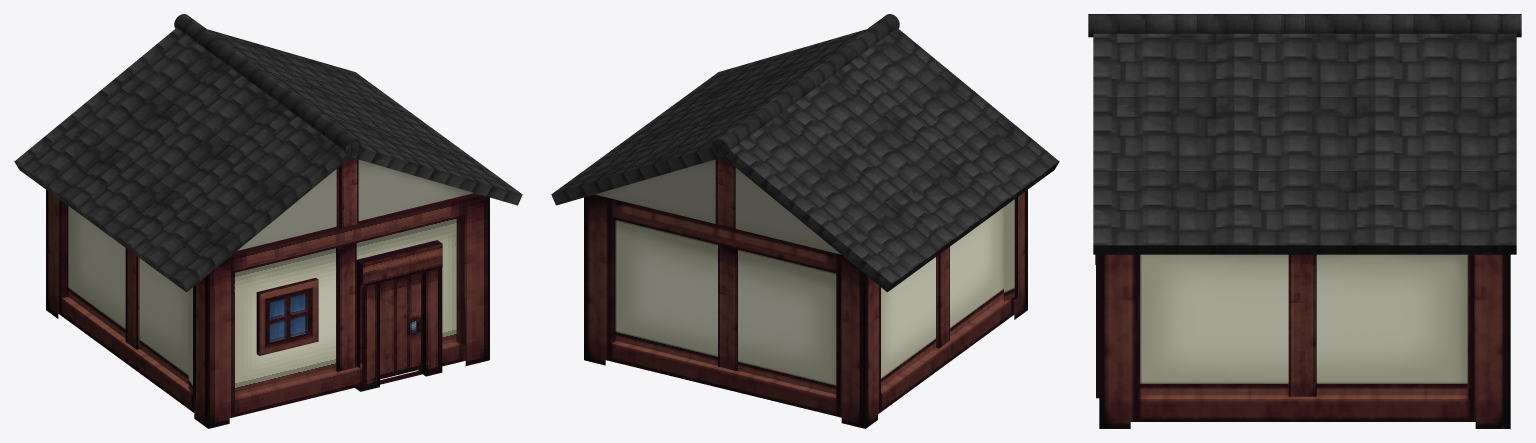
The model's file is house2.glb.
The picture shows the model from 3 angles, left to right: view 1: azimuth 30°, elevation 25°; view 2: azimuth 150°, elevation 25°; view 3: azimuth 270°, elevation 25°; orthographic projection. The views are drawn at different scales.
Parts seen in each view (by area): view 1: Plane.005, Walls, door, Plane.002, Plane.004, Cylinder, Cube.002, Cube, Cube.005; view 2: Walls, Plane.005, Plane.001, Cylinder, Cube.003, Cube.001, Cube.005; view 3: Plane.005, Walls, Cylinder, Cube.004, door.
Part boxes in pixels (x1=…): Plane.005: x1=14, y1=28, x2=522, y2=292; Walls: x1=46, y1=190, x2=489, y2=428; door: x1=355, y1=240, x2=442, y2=391; Plane.002: x1=237, y1=159, x2=473, y2=250; Plane.004: x1=256, y1=278, x2=318, y2=355; Cylinder: x1=174, y1=14, x2=361, y2=156; Cube.002: x1=336, y1=243, x2=356, y2=371; Cube: x1=336, y1=157, x2=358, y2=228; Cube.005: x1=125, y1=248, x2=139, y2=349; Walls: x1=584, y1=190, x2=1027, y2=428; Plane.005: x1=551, y1=28, x2=1059, y2=292; Plane.001: x1=594, y1=159, x2=840, y2=254; Cylinder: x1=712, y1=14, x2=899, y2=156; Cube.003: x1=718, y1=243, x2=737, y2=371; Cube.001: x1=715, y1=157, x2=735, y2=228; Cube.005: x1=936, y1=247, x2=949, y2=348; Plane.005: x1=1093, y1=33, x2=1516, y2=254; Walls: x1=1099, y1=254, x2=1510, y2=428; Cylinder: x1=1088, y1=14, x2=1521, y2=37; Cube.004: x1=1288, y1=254, x2=1316, y2=396; door: x1=1095, y1=254, x2=1099, y2=398.
Bounding box in the file's own units: 4.24 × 3.07 × 3.69.
16 materials, 16 textured.
